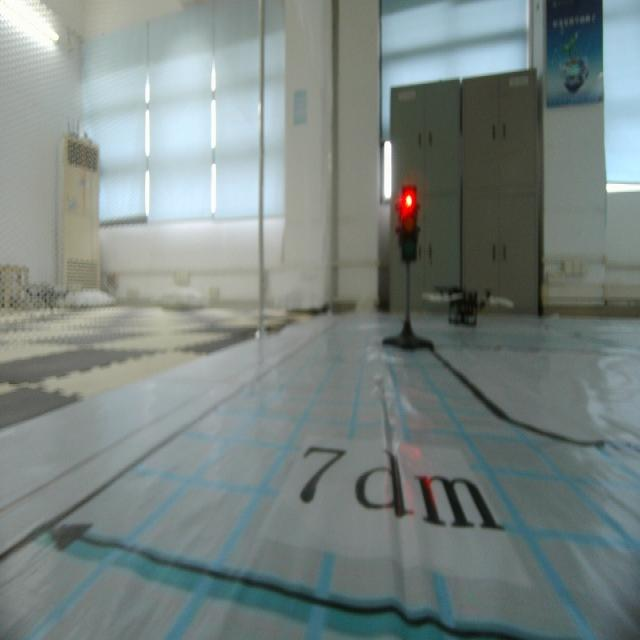red: (396, 184, 421, 267)
